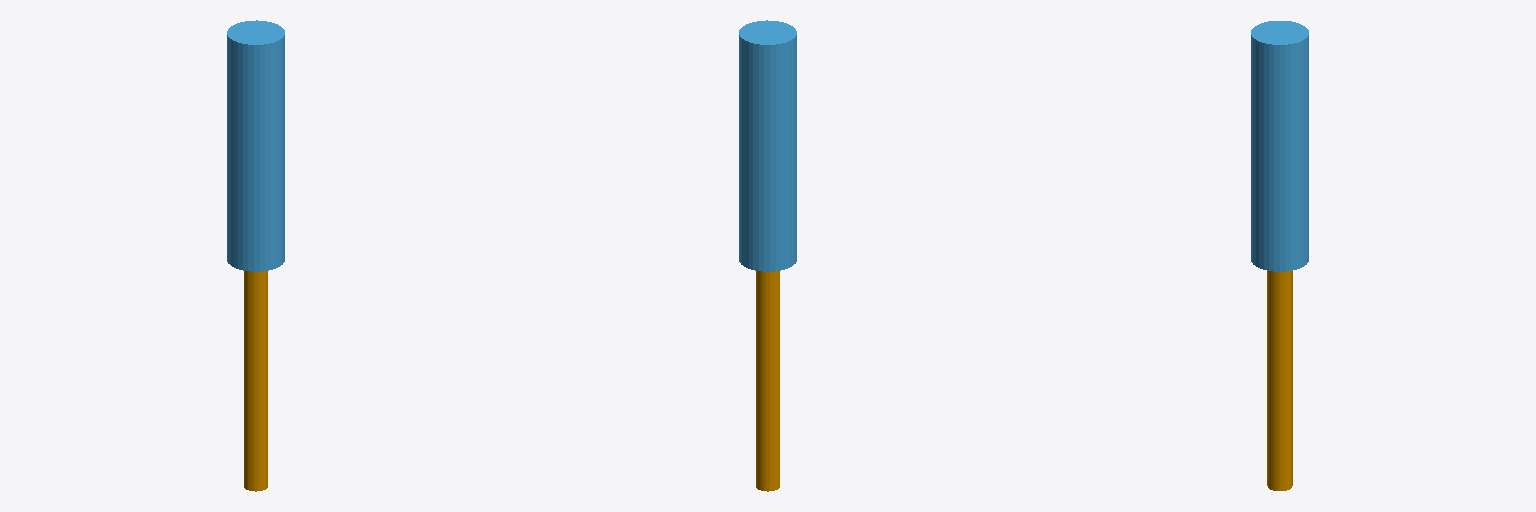
URDF robot description (screwdriver_on_the_table):
<?xml version="1.0" ?>
<!-- this is the one without any virtual joints and links -->
<robot name="screwdriver_on_the_table">
<link name="screwdriver_stick">
    <inertial>
      <mass value="0.05"/>
      <!-- <friction value="1.0"/> -->
      <inertia ixx="0.000041979" ixy="0.0" ixz="0.0" iyy="0.000041979" iyz="0.0" izz="0.000000625"/>
    </inertial>
    <visual>
        <origin rpy="0 0 0" xyz="0 0 0.05"/>
        <geometry>
            <cylinder radius="0.005" length="0.1"/>
        </geometry>
        <!-- <material name="White">
	 	    <color rgba="0.9 0.9 0.9 0.5"/>
        </material> -->
    </visual>
    <collision>
        <origin rpy="0 0 0" xyz="0 0 0.05"/>
        <geometry>
            <cylinder radius="0.005" length="0.1"/>
        </geometry>
    </collision>
</link>

<gazebo reference="screwdriver_body">
    <mu1>1.173856</mu1>
    <mu2>1.260711</mu2>
    <!-- Isaac Sim maps mu1/mu2 to PhysX static/dynamic friction during URDF→USD import -->
</gazebo>

<joint name="screwdriver_stick_body_joint" type="fixed">
    <parent link="screwdriver_stick"/>
    <child link="screwdriver_body"/>
    <origin rpy="0 0 0" xyz="0 0 0.1"/> 
    <axis xyz="0 0 1"/>
</joint>

<link name="screwdriver_body">
    <inertial>
      <mass value="0.059092"/>
      <inertia ixx="0.000051245" ixy="0.0" ixz="0.0" iyy="0.000051245" iyz="0.0" izz="0.000010000"/>
    </inertial>
    <visual>
        <origin rpy="0 0 0" xyz="0 0 0.05"/>
        <geometry>
            <cylinder radius="0.011639" length="0.1"/>
        </geometry>
        <!-- <material name="Red1">
	 	    <color rgba="0.9 0. 0. 0.5"/>
        </material> -->
    </visual>
    <collision>
        <origin rpy="0 0 0" xyz="0 0 0.05"/>
        <geometry>
            <cylinder radius="0.011639" length="0.1"/>
        </geometry>
    </collision>
</link>

<!-- <joint name="screwdriver_body_cap_joint" type="revolute">
    <parent link="screwdriver_body"/>
    <child link="screwdriver_cap"/>
    <origin rpy="0 0 0" xyz="0 0 0.1"/> 
    <axis xyz="0 0 1"/>
</joint>

<link name="screwdriver_cap">
    <inertial>
      <mass value="0.005"/>
      <inertia ixx="0.00001" ixy="0.0" ixz="0.0" iyy="0.000005" iyz="0.0" izz="0.000005"/>
    </inertial>
    <visual>
        <origin rpy="0 0 0" xyz="0 0 0.0006"/>
        <geometry>
            <cylinder radius="0.02" length="0.001"/>
        </geometry>
        <material name="Yellow">
	 	    <color rgba="0.9 0.9 0. 1.0"/>
        </material>
    </visual>
    <collision>
        <origin rpy="0 0 0" xyz="0 0 0.0005"/>
        <geometry>
            <cylinder radius="0.02" length="0.001"/>
        </geometry>
    </collision>
</link> -->

</robot>

--- Facts derived from the render (not from the file) ---
The picture shows the robot from 3 angles, left to right: view 1: azimuth 30°, elevation 25°; view 2: azimuth 150°, elevation 25°; view 3: azimuth 270°, elevation 25°; orthographic projection.
Model screwdriver_on_the_table with 2 links and 1 joints (1 fixed), rooted at screwdriver_stick, posed all joints at 0.
Visible links, largest first — view 1: screwdriver_body, screwdriver_stick; view 2: screwdriver_body, screwdriver_stick; view 3: screwdriver_body, screwdriver_stick.
Boxes of the visible links, x1=… form: screwdriver_body: x1=227, y1=20, x2=284, y2=271; screwdriver_stick: x1=244, y1=271, x2=267, y2=491; screwdriver_body: x1=739, y1=20, x2=796, y2=271; screwdriver_stick: x1=756, y1=271, x2=779, y2=491; screwdriver_body: x1=1251, y1=21, x2=1308, y2=271; screwdriver_stick: x1=1267, y1=271, x2=1292, y2=490.
Size in the robot's own frame: 0.0233 by 0.0233 by 0.2 metres.
Geometry: primitives only (box / cylinder / sphere), no mesh files.
